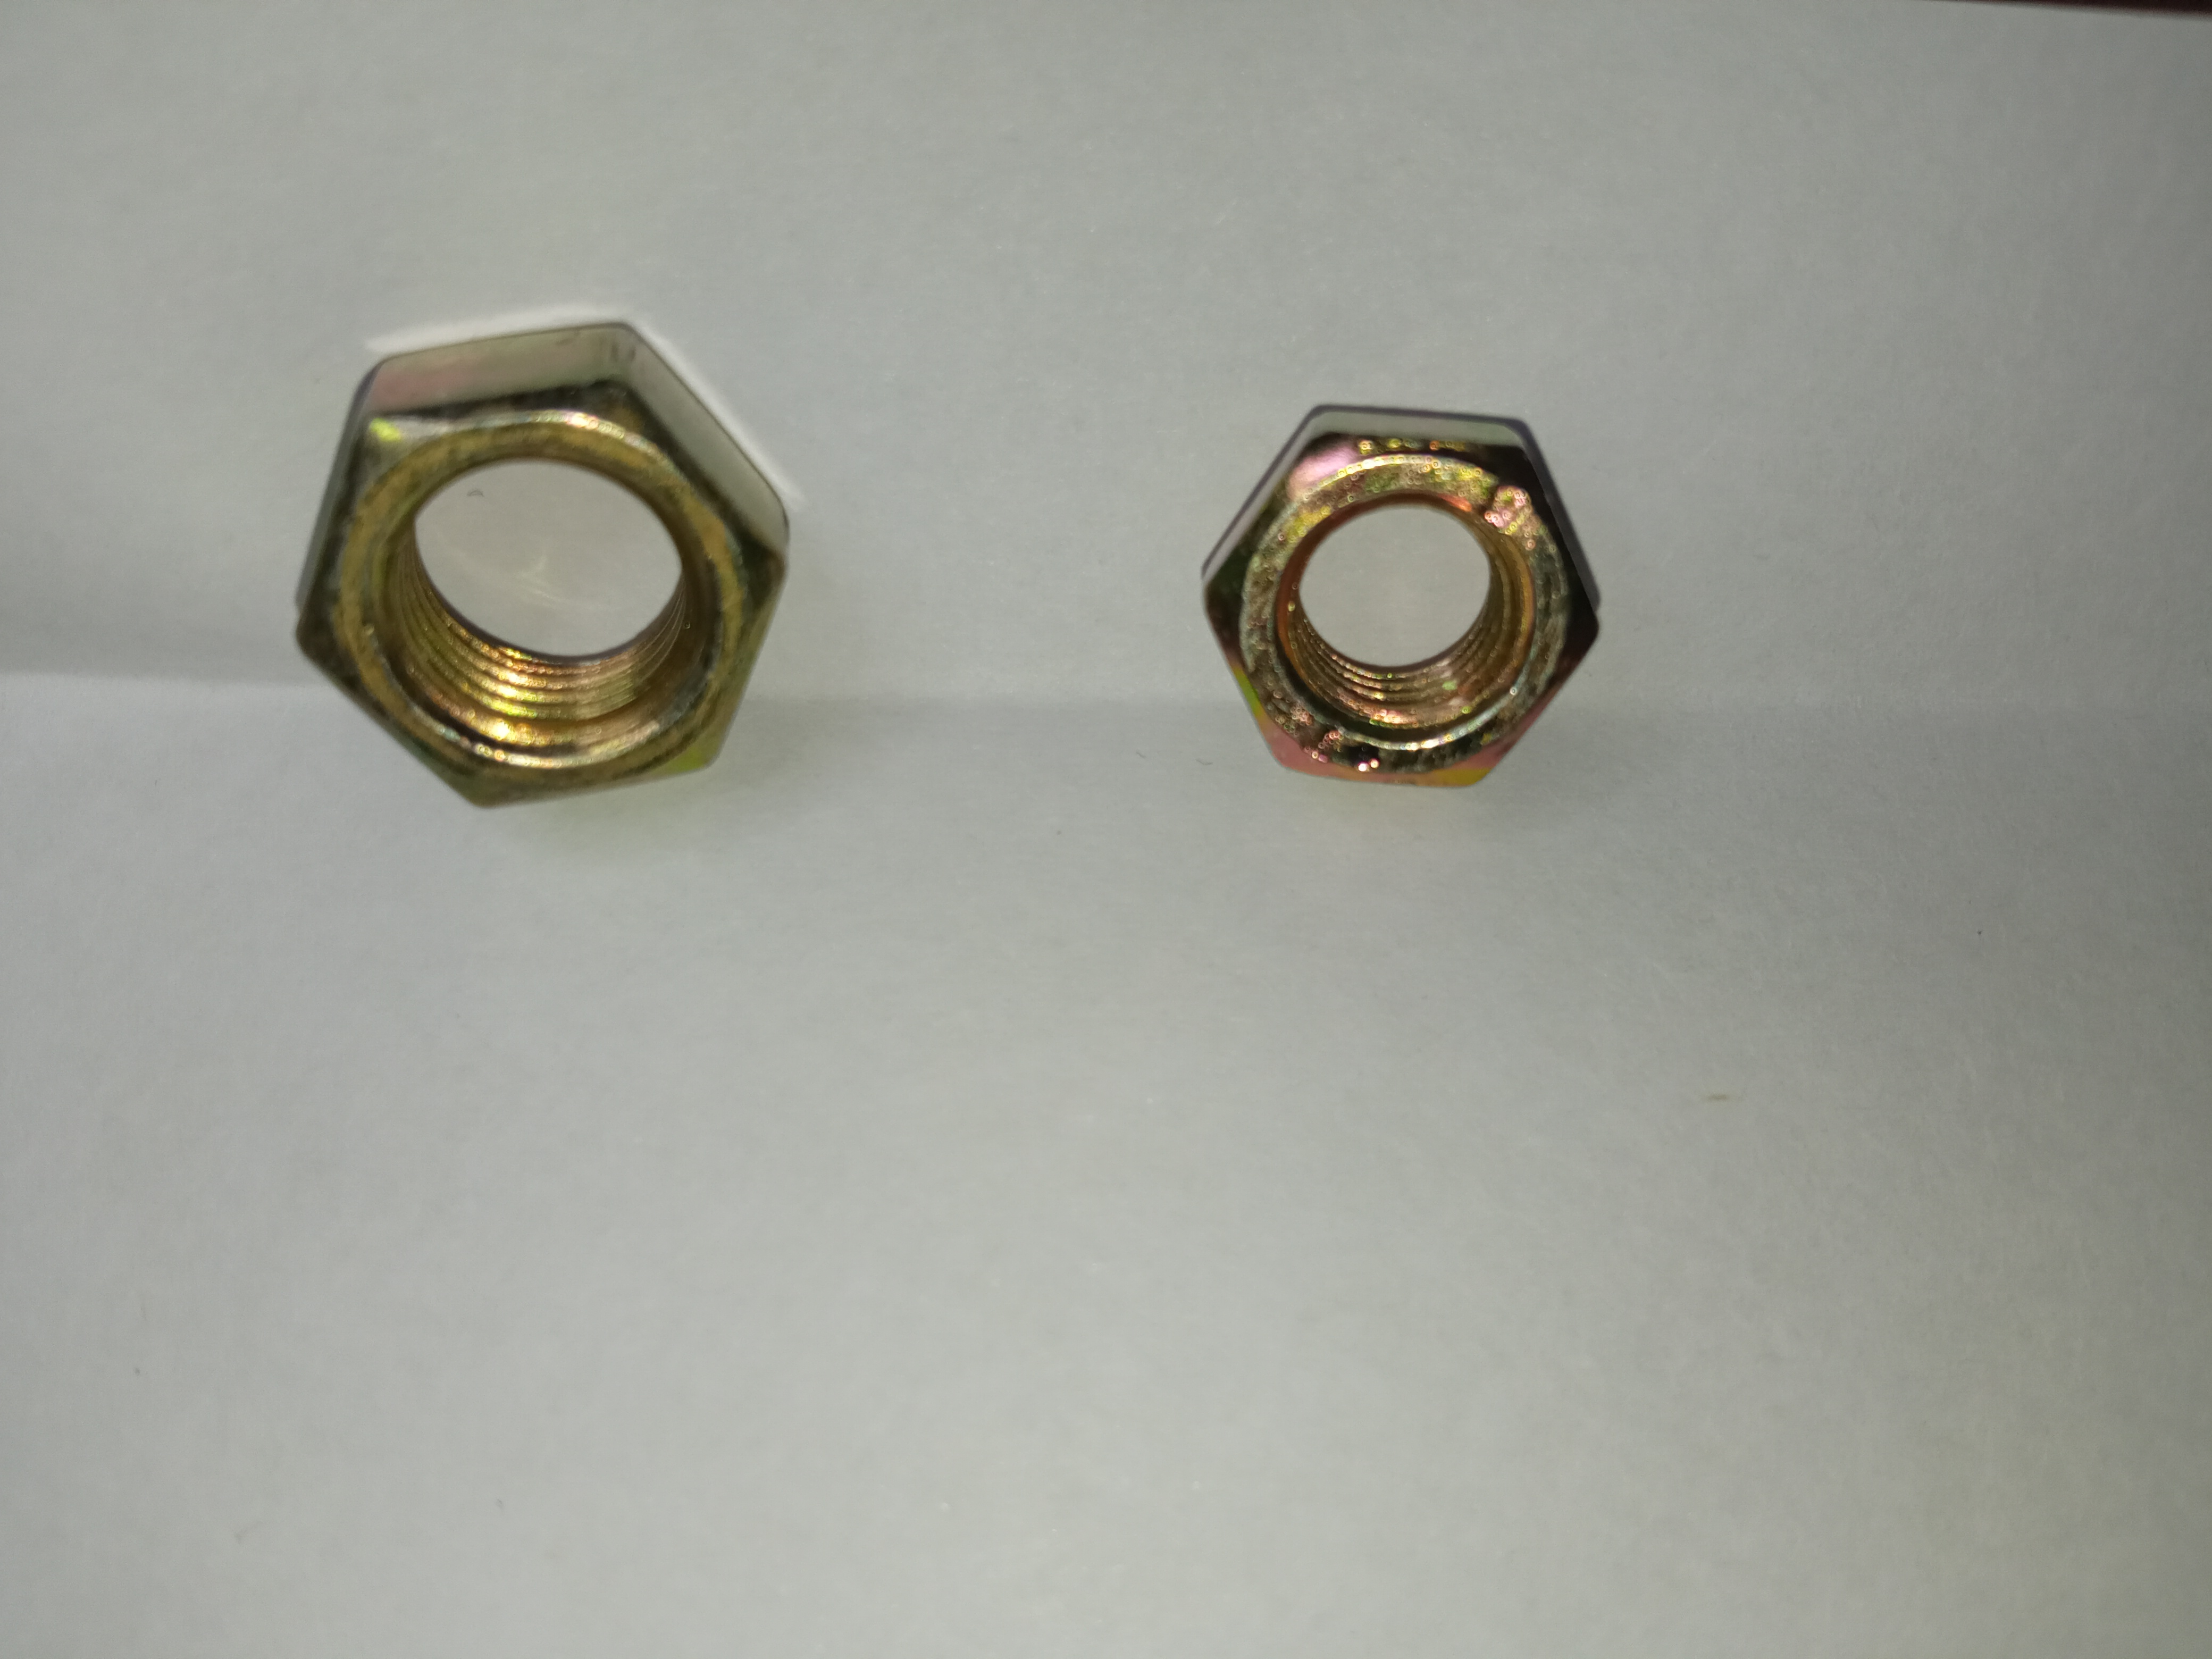m10: (294, 340, 782, 795)
m8: (1205, 423, 1571, 793)
